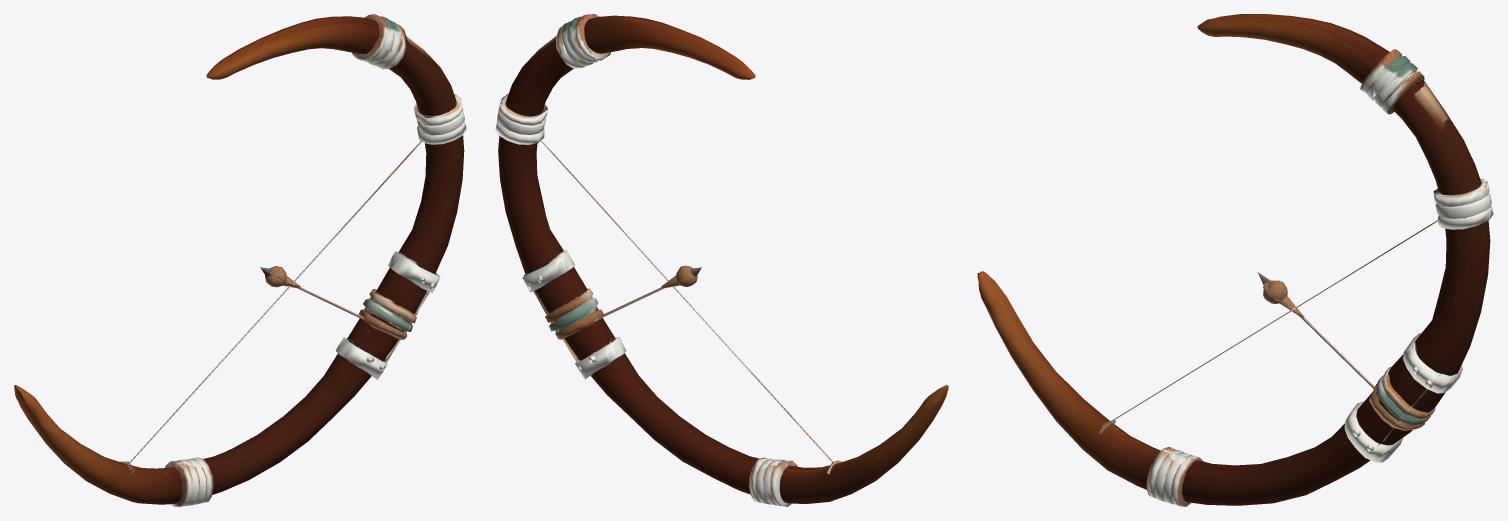
The model's file is hornbow_refine.glb.
The picture shows the model from 3 angles, left to right: view 1: azimuth 30°, elevation 25°; view 2: azimuth 150°, elevation 25°; view 3: azimuth 330°, elevation 25°; orthographic projection. The views are drawn at different scales.
Size of the model in its own units: 0.9595 by 0.9209 by 0.0933.
Materials: 1 (1 with a texture image).
